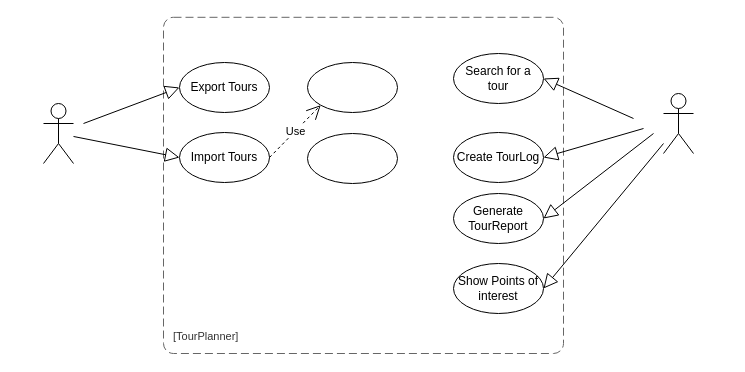
Some shapes in this 745 by 372 pixel diagram are drawn without their labels. The shapes that lost their labels are listed below. From the top down, each one's centre as x and y in pixels, then its label:
point 352,87: Create Tours
point 58,133: Tour Maintainer
point 678,123: Tour Accomplisher
point 352,158: Edit Tours
